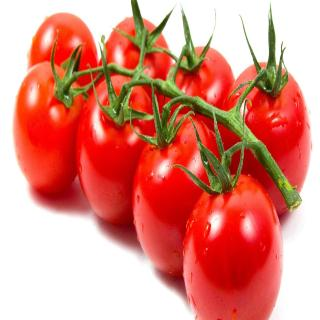Tomat: (175, 101, 285, 320)
